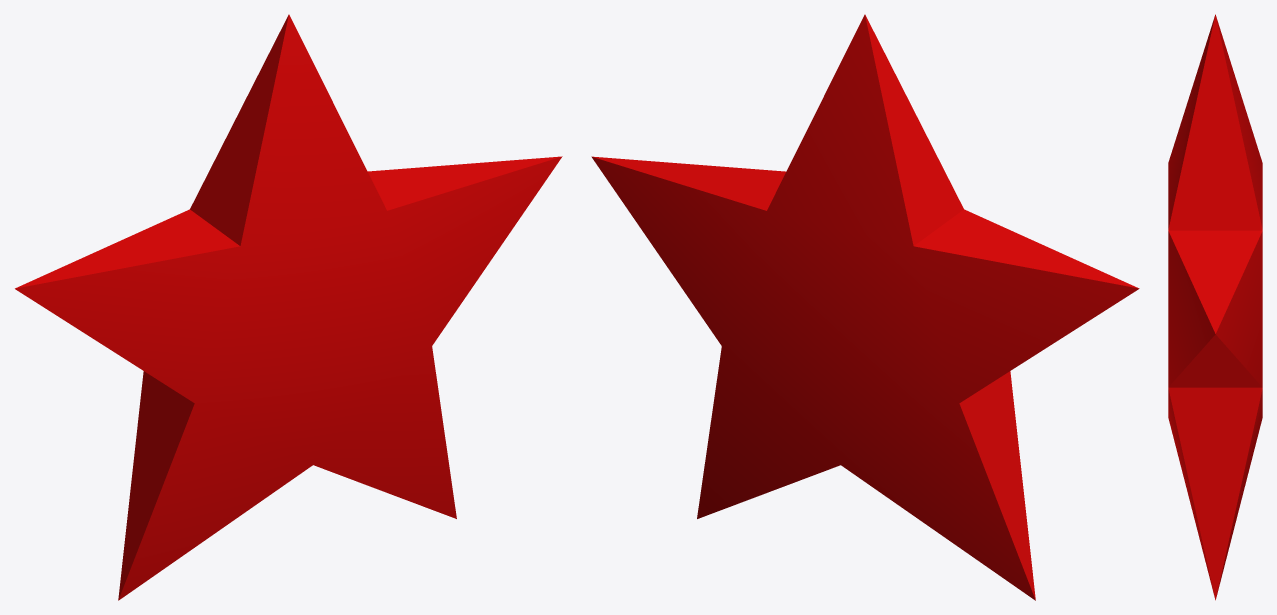
File: 056 Star.fbx
3 renders of one model, left to right at view 1: azimuth 30°, elevation 25°; view 2: azimuth 150°, elevation 25°; view 3: azimuth 270°, elevation 25°, orthographic. The views are drawn at different scales.
Parts seen in each view (by area): view 1: Lowpoly_Christmas_Pack_056:pCylinder1; view 2: Lowpoly_Christmas_Pack_056:pCylinder1; view 3: Lowpoly_Christmas_Pack_056:pCylinder1.
Boxes of the visible parts, x1,y1,x2,y2 form: Lowpoly_Christmas_Pack_056:pCylinder1: [15, 14, 562, 600]; Lowpoly_Christmas_Pack_056:pCylinder1: [591, 14, 1139, 600]; Lowpoly_Christmas_Pack_056:pCylinder1: [1168, 14, 1262, 600].
Size of the model in its own units: 2.39 by 2.28 by 0.3824.
